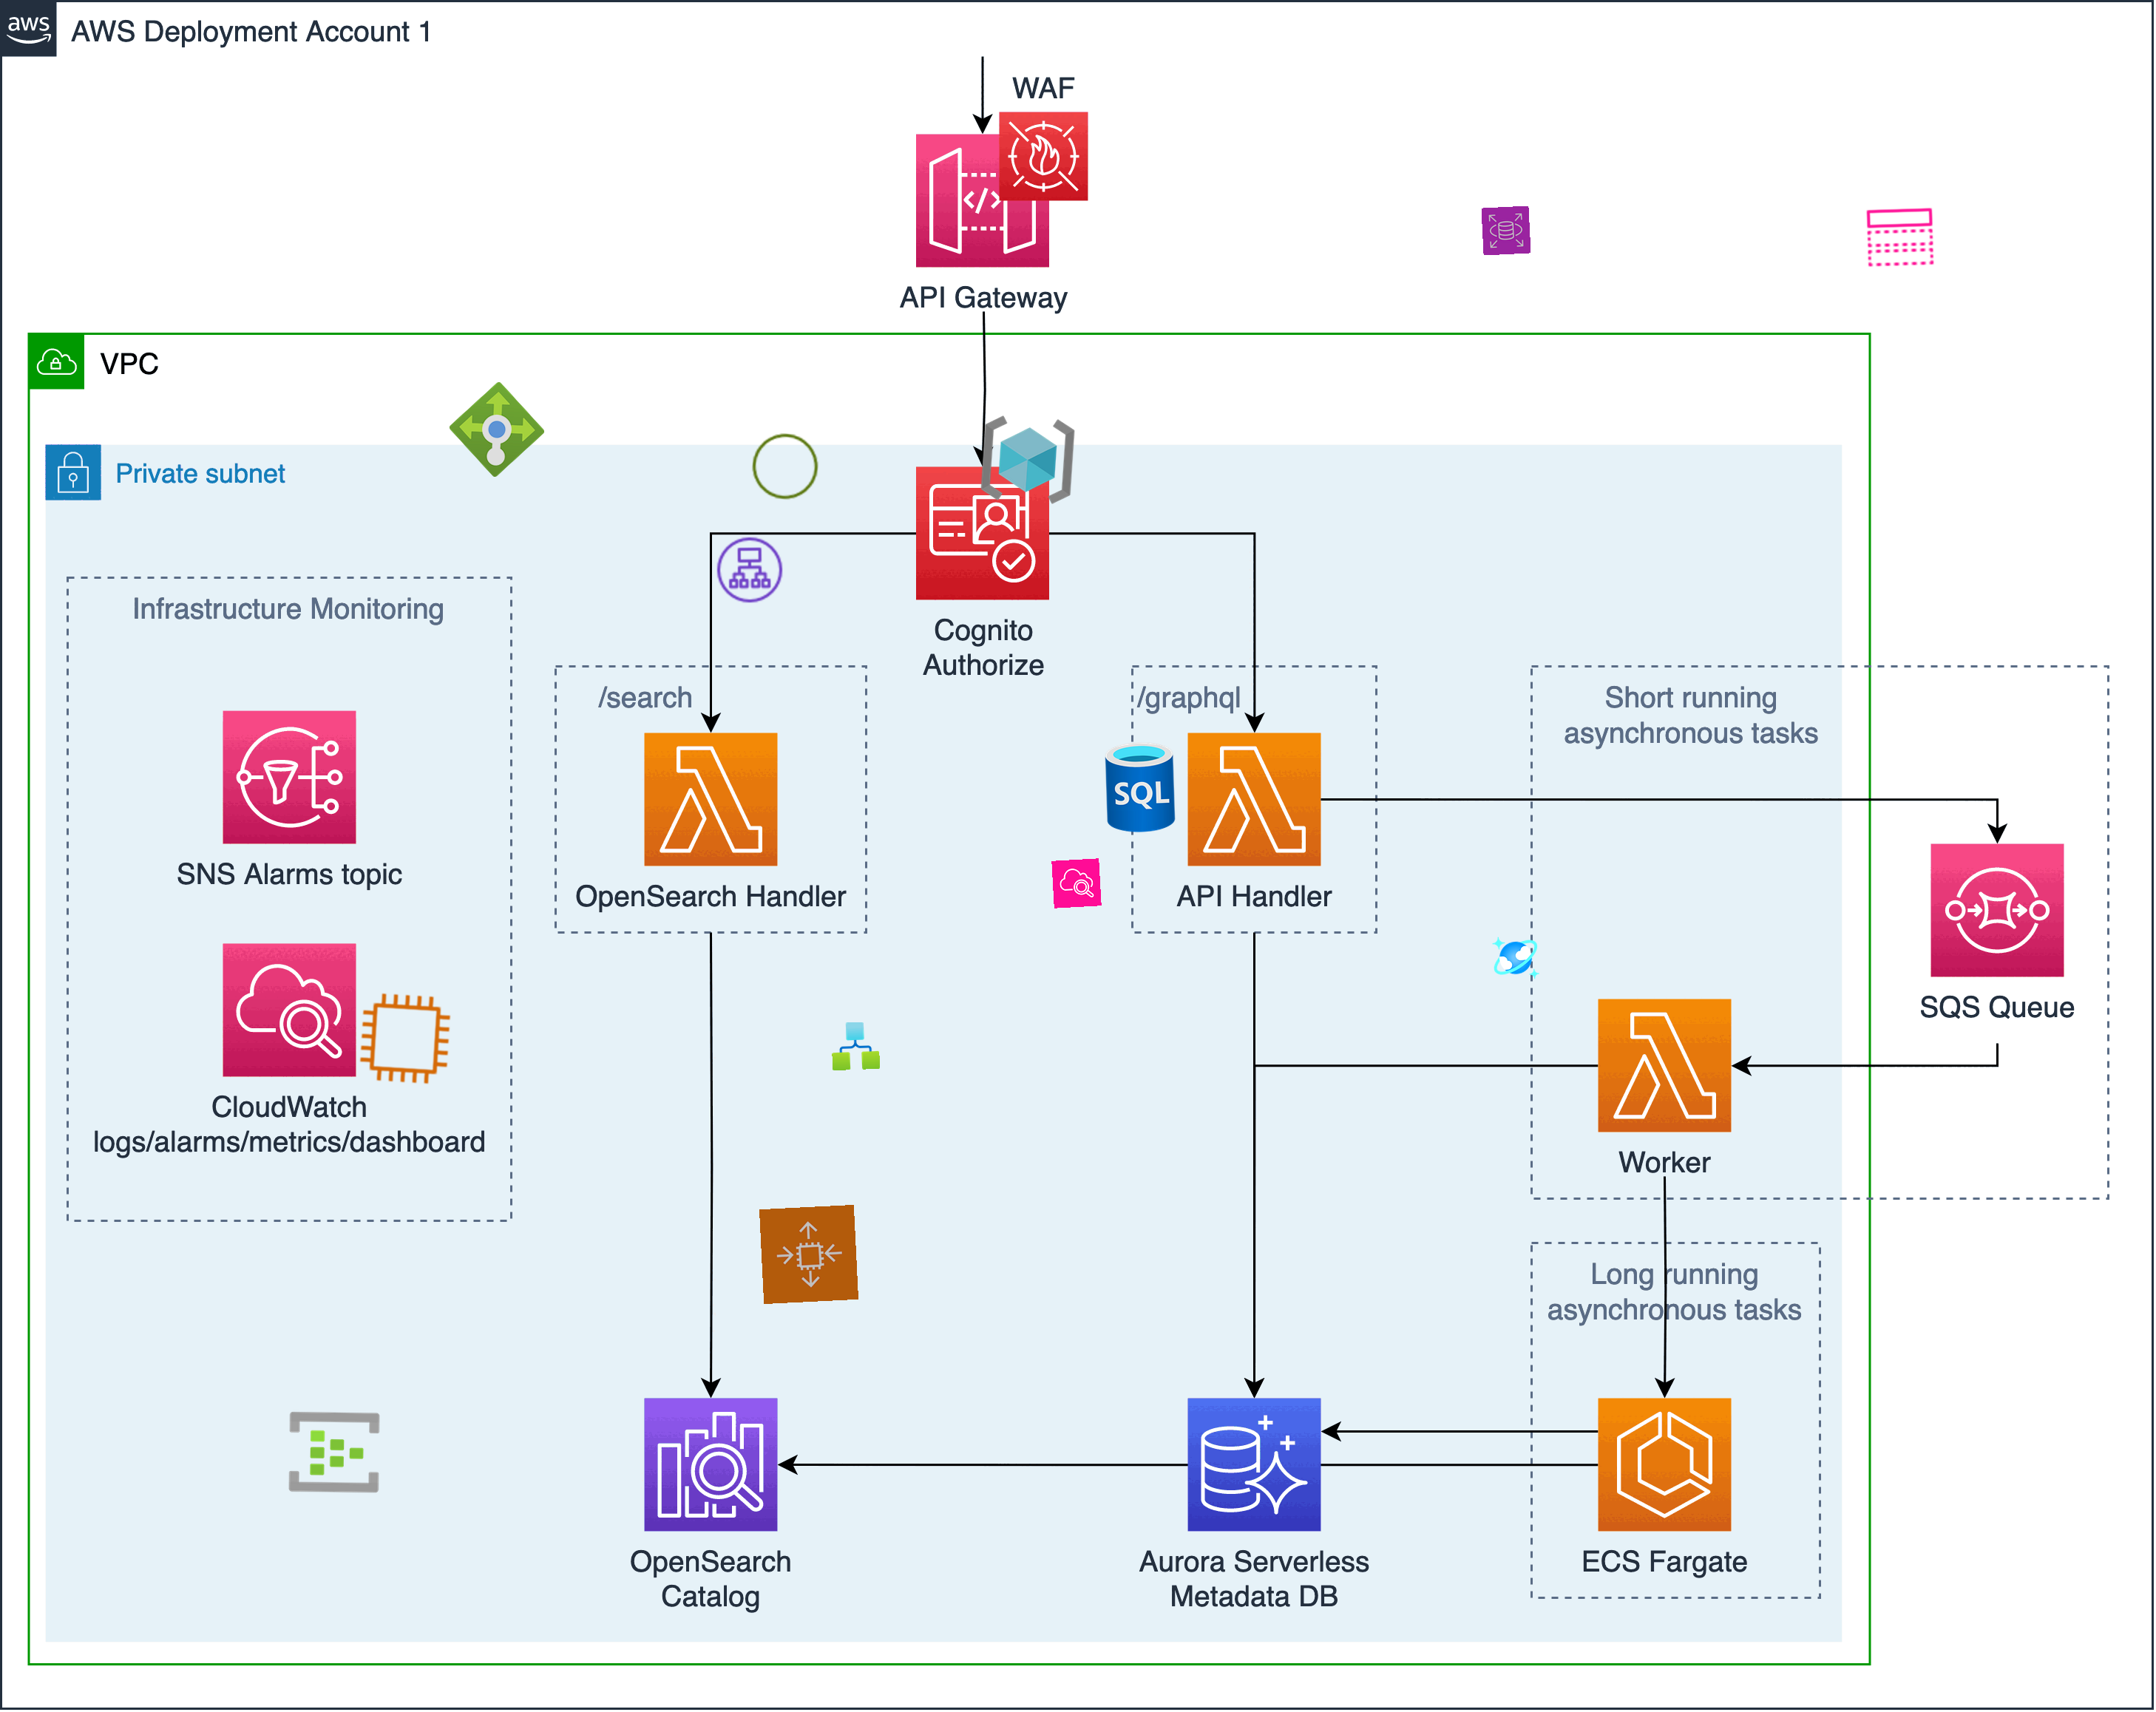aws_amazon_cloudwatch: (1052, 859, 1102, 909)
aws_amazon_ec2_auto_scaling: (758, 1205, 859, 1305)
aws_amazon_rds: (1481, 206, 1531, 255)
aws_ec2_instance: (355, 988, 455, 1089)
aws_elastic_load_balancing_application_load_balancer: (714, 533, 786, 607)
aws_simple_notification_service_topic: (1864, 201, 1937, 275)
aws_simple_storage_service_object: (747, 428, 824, 505)
azure_cosmos_db: (1489, 932, 1542, 985)
azure_event_hubs: (287, 1404, 382, 1500)
azure_load_balancers: (448, 379, 546, 479)
azure_logic_apps: (829, 1021, 880, 1072)
azure_resource_groups: (977, 409, 1078, 511)
azure_sql_database: (1090, 738, 1190, 838)
